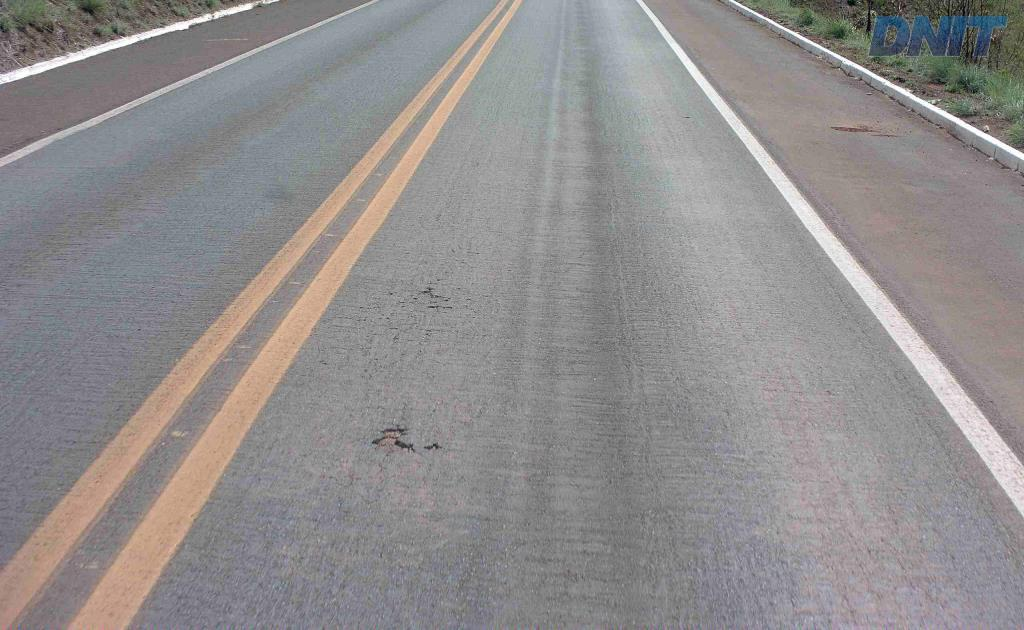crack: (368, 416, 416, 464), (395, 278, 452, 313)
